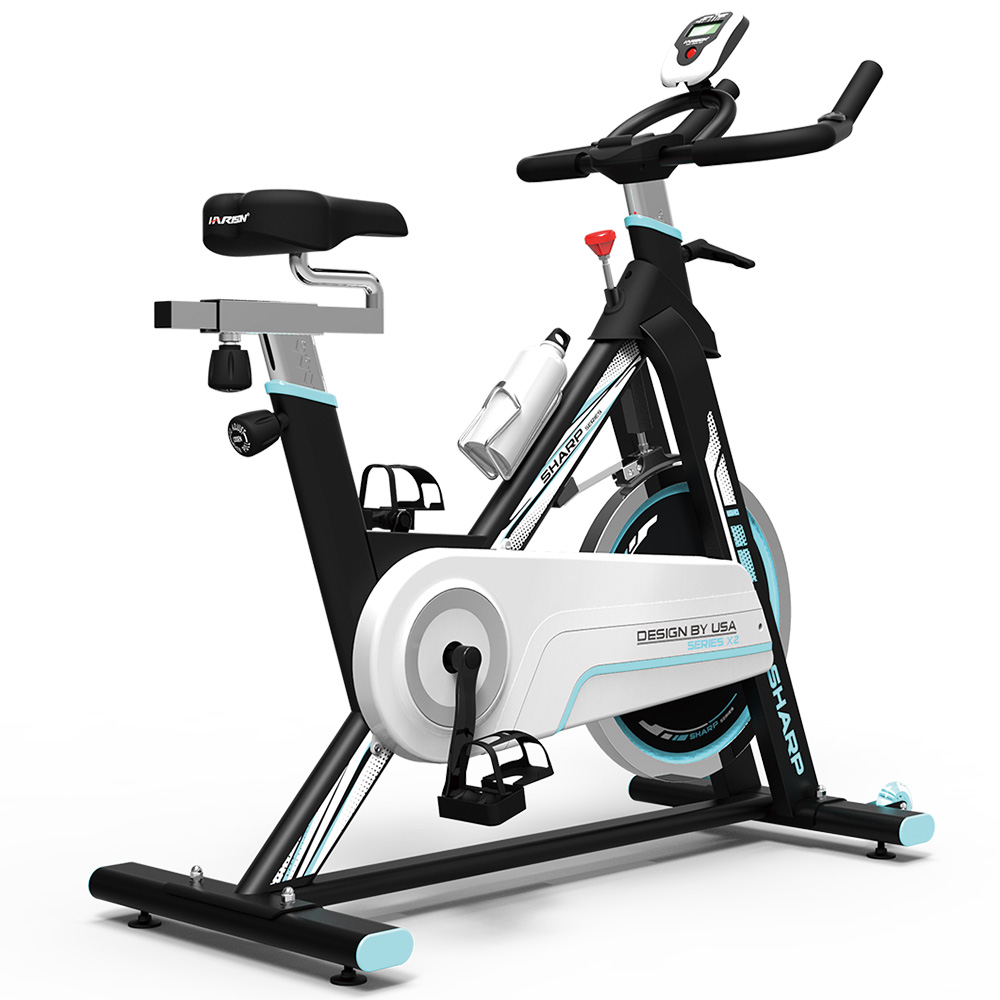gym_bike: (104, 6, 892, 980)
